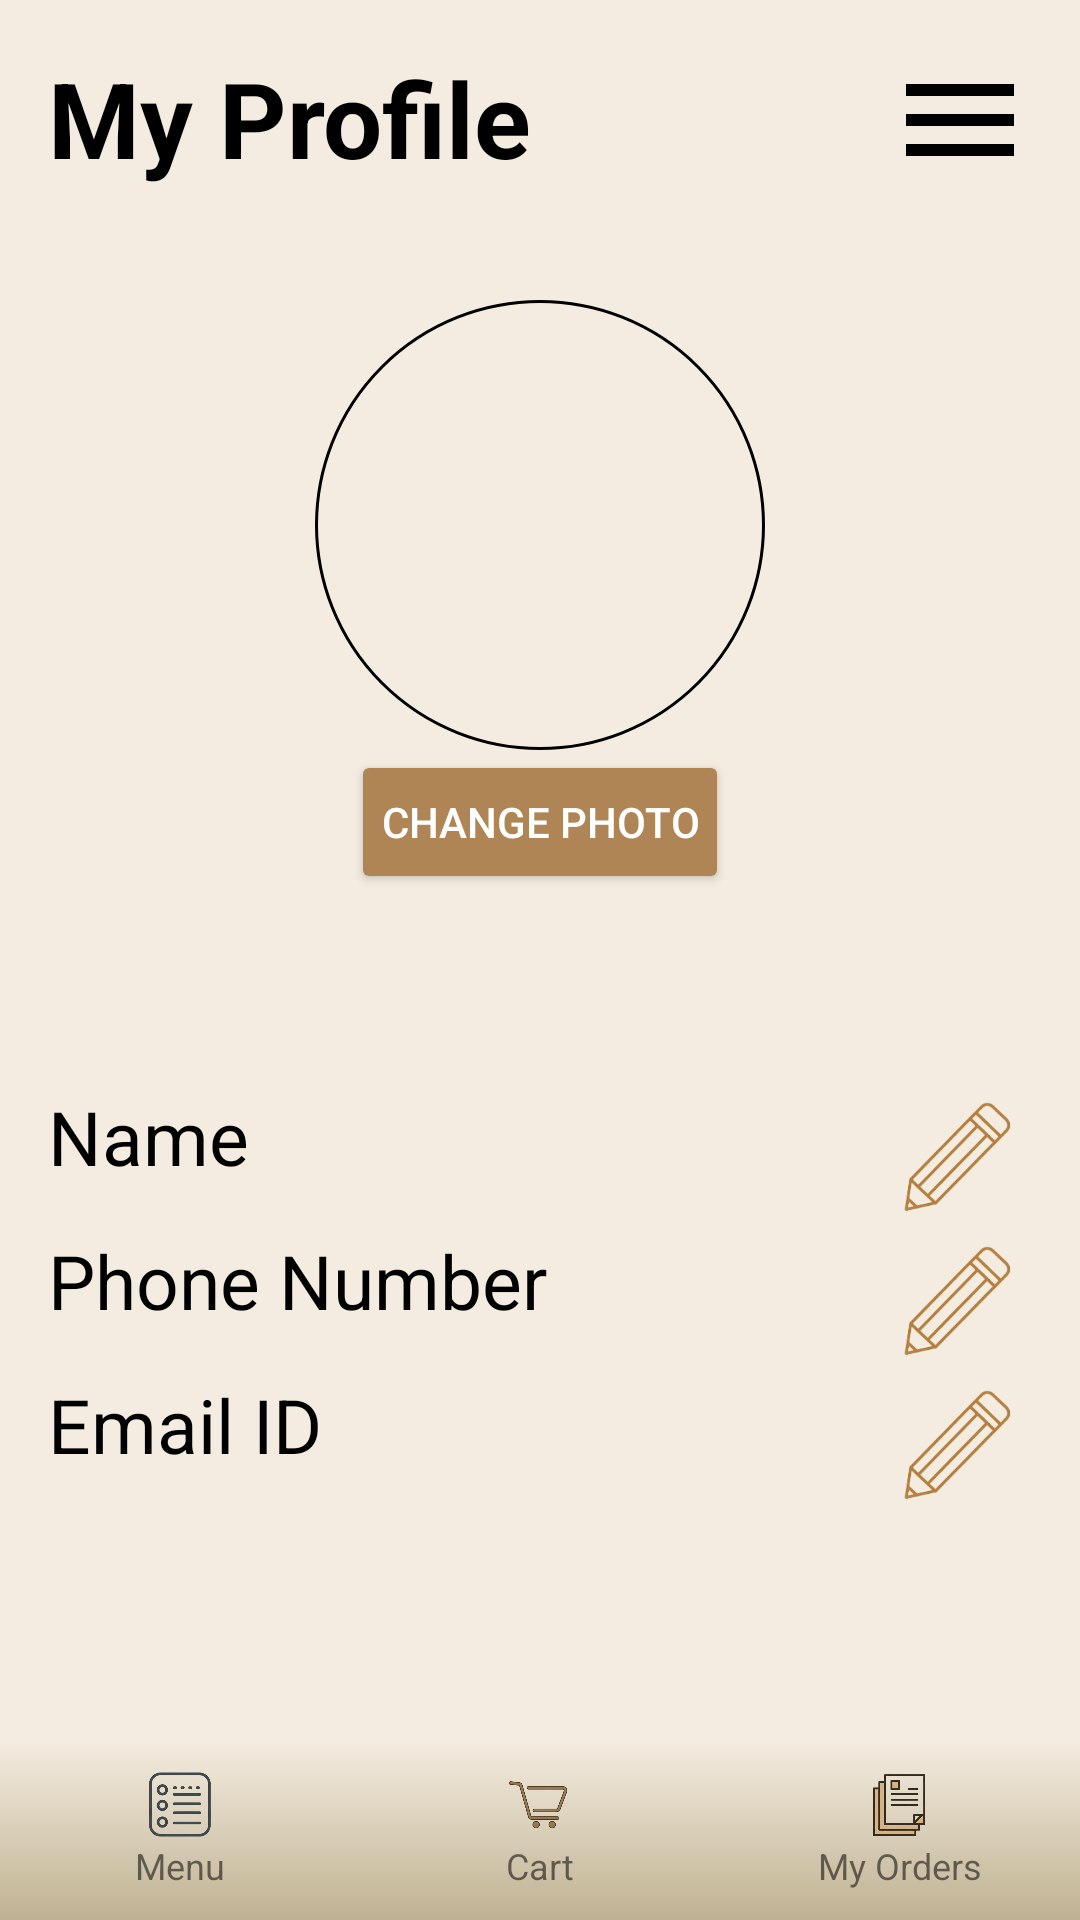

Icons on this 1080 × 1920 Android screen, each with its box as (x1, y1, x2, y2):
Edit Email: (904, 1391, 1010, 1499)
Edit Phone: (904, 1247, 1010, 1355)
